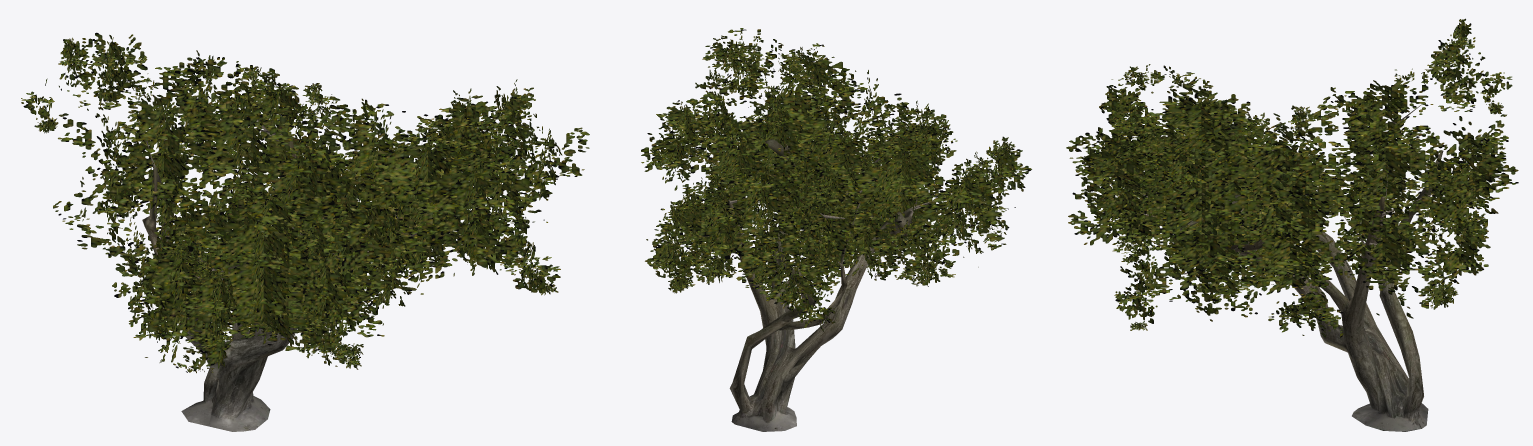
Rendered from island_tree_02-low.glb.
3 renders of one model, left to right at view 1: azimuth 30°, elevation 25°; view 2: azimuth 150°, elevation 25°; view 3: azimuth 270°, elevation 25°, orthographic. The views are drawn at different scales.
Visible parts, largest first — view 1: baked-leaf-clusters, island_tree_02_LOD0; view 2: baked-leaf-clusters, island_tree_02_LOD0; view 3: baked-leaf-clusters, island_tree_02_LOD0.
Part boxes in pixels (<box>): baked-leaf-clusters: <box>21,32,589,373</box>; island_tree_02_LOD0: <box>134,82,522,431</box>; baked-leaf-clusters: <box>641,28,1031,331</box>; island_tree_02_LOD0: <box>660,76,991,431</box>; baked-leaf-clusters: <box>1066,18,1518,337</box>; island_tree_02_LOD0: <box>1087,102,1495,431</box>.
Size of the model in its own units: 3.88 by 3.4 by 4.07.
Materials: 3 (3 with a texture image).
